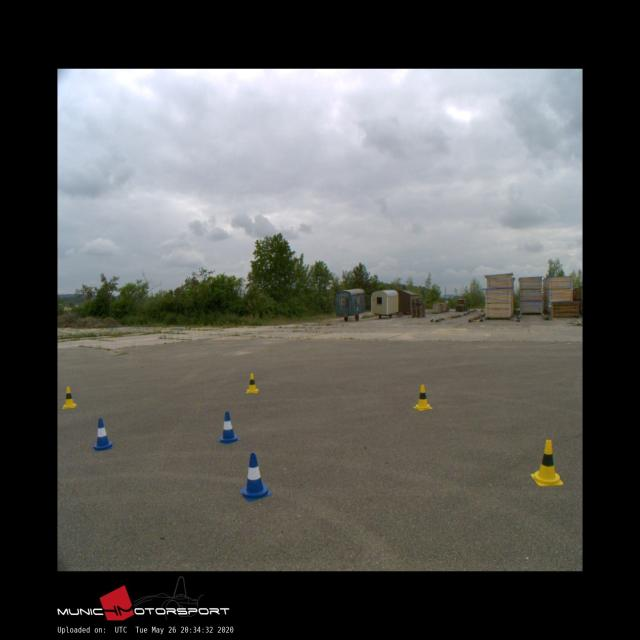blue_cone: (240, 452, 272, 500), (217, 411, 240, 443), (93, 418, 112, 452)
yellow_cone: (530, 439, 563, 485), (413, 385, 431, 410), (62, 386, 76, 408), (246, 373, 258, 393)
